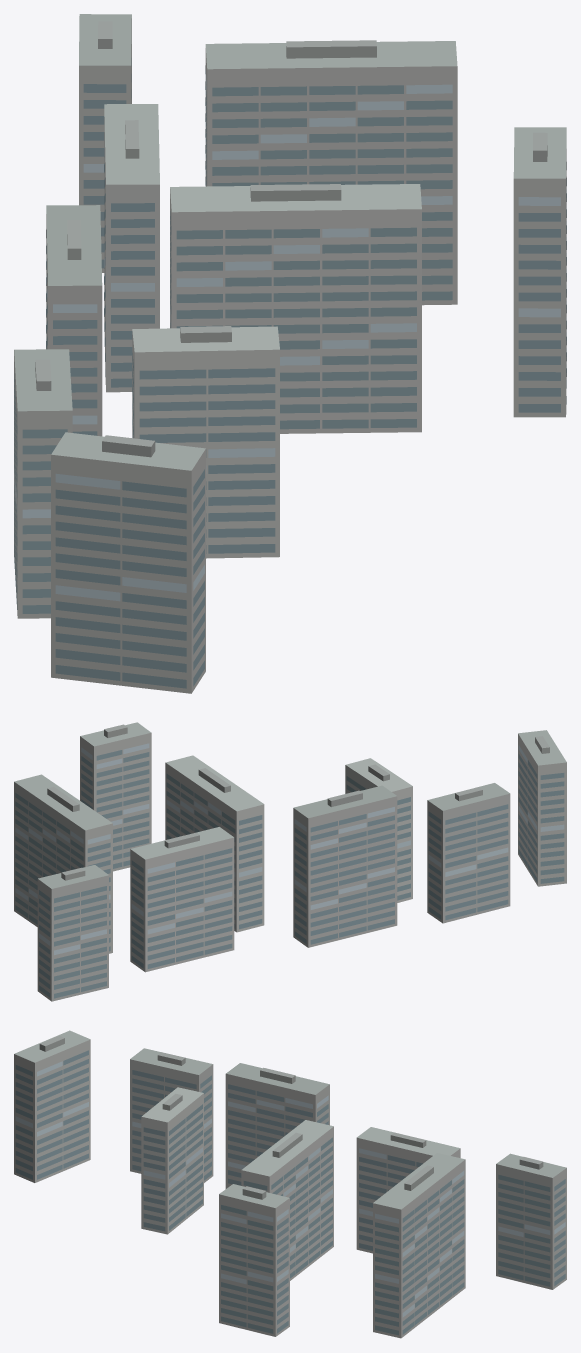
The model's file is apt-a13203302.glb.
3 views of the same model, one above another, from view 1: azimuth 30°, elevation 25°; view 2: azimuth 150°, elevation 25°; view 3: azimuth 270°, elevation 25° (orthographic). The views are drawn at different scales.
Parts seen in each view (by area): view 1: apt-a13203302; view 2: apt-a13203302; view 3: apt-a13203302.
Boxes of the visible parts, bbox=[...] form: apt-a13203302: bbox=[14, 14, 566, 693]; apt-a13203302: bbox=[14, 722, 566, 1001]; apt-a13203302: bbox=[14, 1030, 566, 1338].
Bounding box in the file's own units: 137 × 46 × 171.
